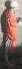gloves: (0, 53, 6, 61)
hard-hat: (0, 9, 8, 21)
ppe-suit: (2, 8, 20, 52)
